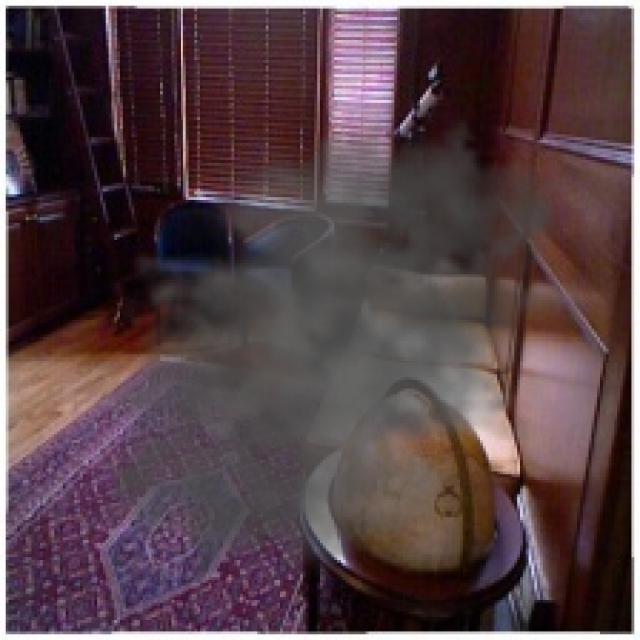Smoke: (71, 86, 594, 612)
